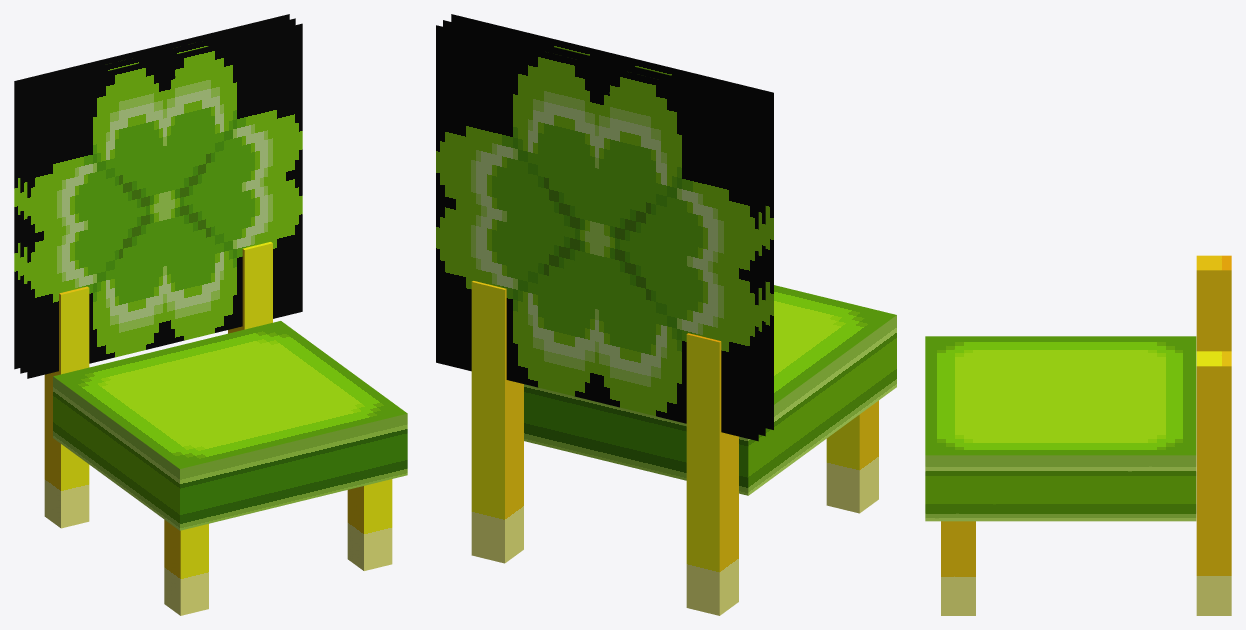
3 renders of one model, left to right at view 1: azimuth 30°, elevation 25°; view 2: azimuth 150°, elevation 25°; view 3: azimuth 270°, elevation 25°, orthographic. The views are drawn at different scales.
Parts seen in each view (by area): view 1: 3855kg3_ser36; view 2: 3855kg3_ser36; view 3: 3855kg3_ser36.
Boxes of the visible parts, box(x1,y1,x2,y2) form: 3855kg3_ser36: box(14, 14, 407, 615); 3855kg3_ser36: box(436, 14, 896, 615); 3855kg3_ser36: box(925, 255, 1231, 615).
Bounding box in the file's own units: 0.8262 × 1.27 × 0.7441.
4 materials, 4 textured.
